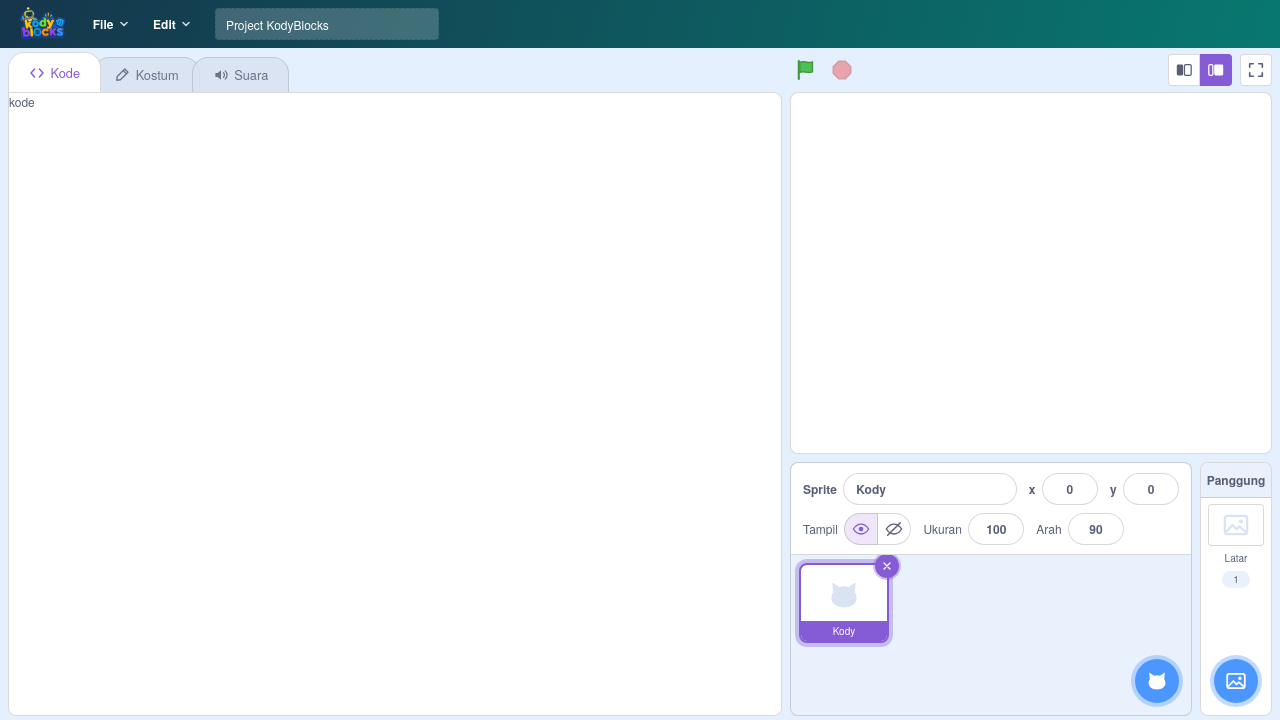
KodyShell › tambah sprite gagal (belum tersedia) memunculkan alert
Click the 1st button with class "kb-action-menu__button--main" at (1157, 681), box [1135,659,1179,703]
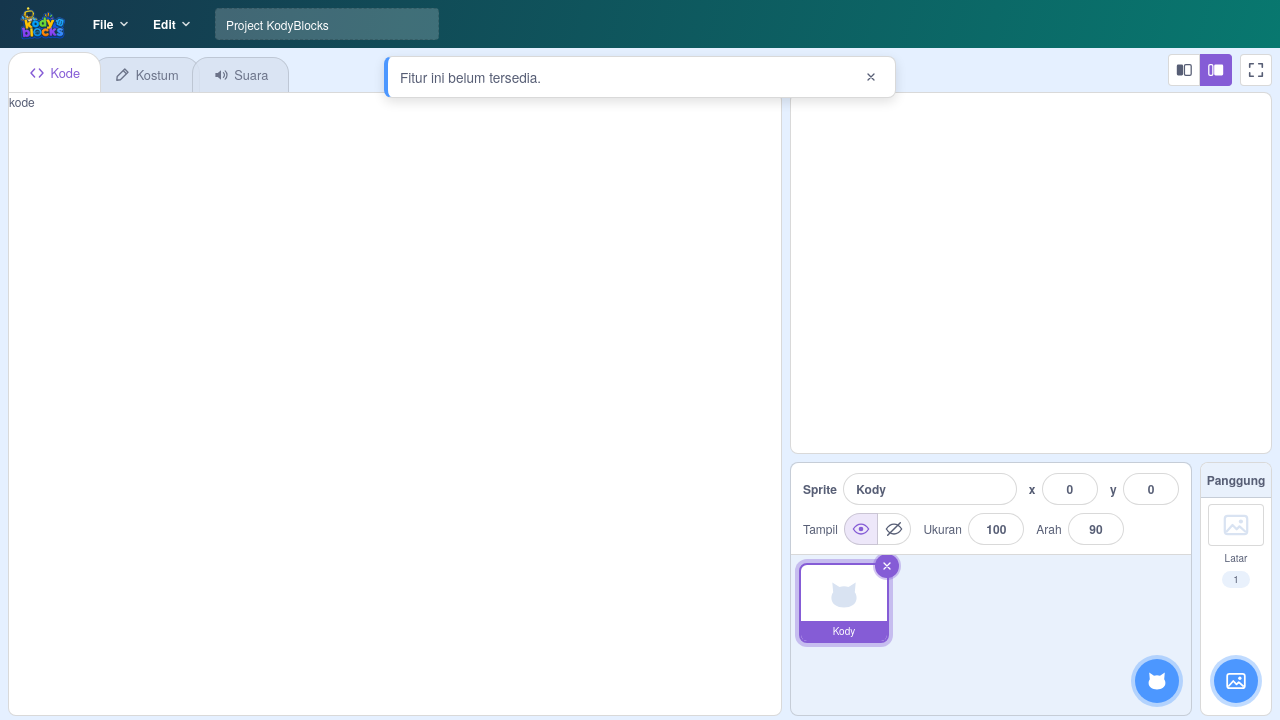
Now the message with class "kb-alert" shows "belum tersedia", box [400,67,541,87]
